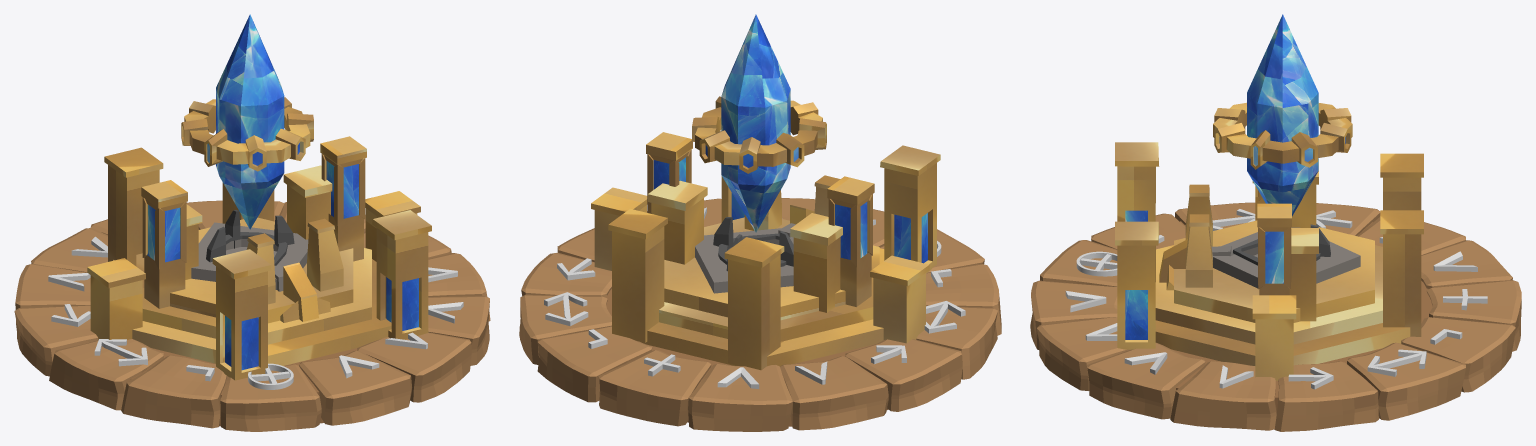
File: ALTAR.fbx
3 renders of one model, left to right at view 1: azimuth 30°, elevation 25°; view 2: azimuth 150°, elevation 25°; view 3: azimuth 270°, elevation 25°, orthographic.
Parts seen in each view (by area): view 1: Cube.306, Cylinder.106, Cylinder.107; view 2: Cube.306, Cylinder.106, Cylinder.107; view 3: Cube.306, Cylinder.106, Cylinder.107.
Part boxes in pixels (<box>): Cube.306: <box>14,136,490,431</box>; Cylinder.106: <box>216,14,284,229</box>; Cylinder.107: <box>181,97,313,171</box>; Cube.306: <box>519,132,1001,431</box>; Cylinder.106: <box>721,14,790,232</box>; Cylinder.107: <box>692,96,826,173</box>; Cube.306: <box>1030,142,1521,431</box>; Cylinder.106: <box>1247,14,1318,216</box>; Cylinder.107: <box>1213,102,1352,169</box>.
Bounding box in the file's own units: 3781 × 2802 × 3865.
